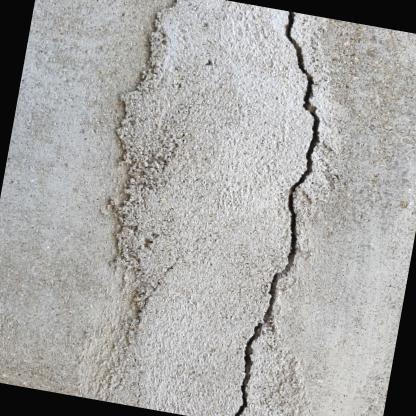crack: (232, 11, 319, 416)
